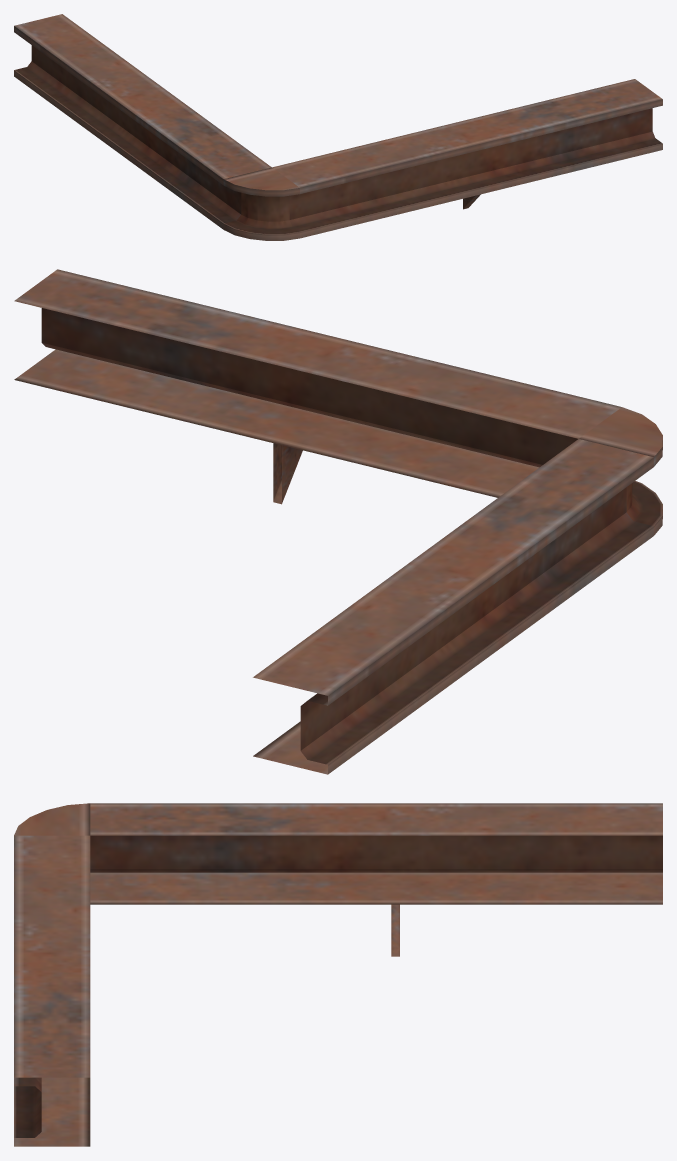
Rendered from welder_girder_convex.dae.
3 views of the same model, one above another, from view 1: azimuth 30°, elevation 25°; view 2: azimuth 150°, elevation 25°; view 3: azimuth 270°, elevation 25° (orthographic). The views are drawn at different scales.
Parts seen in each view (by area): view 1: welder_girder_convex_short; view 2: welder_girder_convex_short; view 3: welder_girder_convex_short.
Part boxes in pixels (x1,y1,x2,y2): welder_girder_convex_short: [14, 14, 662, 240]; welder_girder_convex_short: [14, 269, 662, 774]; welder_girder_convex_short: [14, 803, 662, 1146].
Size of the model in its own units: 2.12 by 0.4375 by 2.12.
